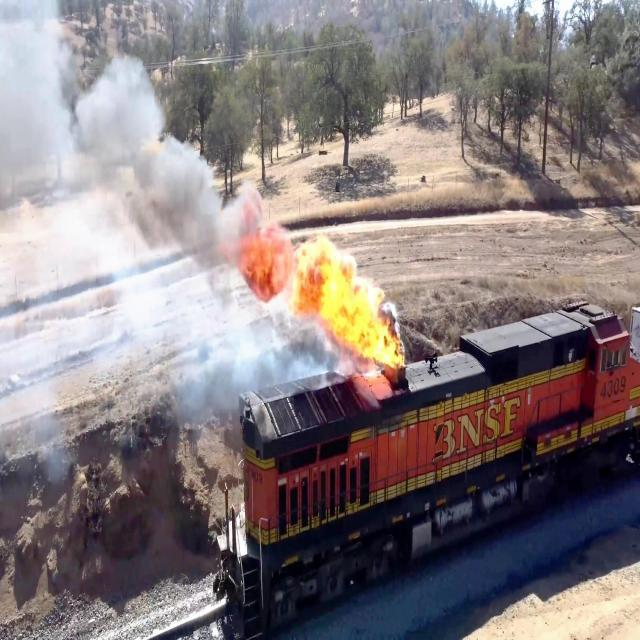Fire: (224, 197, 288, 296), (287, 234, 359, 318), (350, 292, 398, 368)
Smoke: (0, 0, 69, 214), (86, 48, 172, 174), (146, 132, 228, 253)
